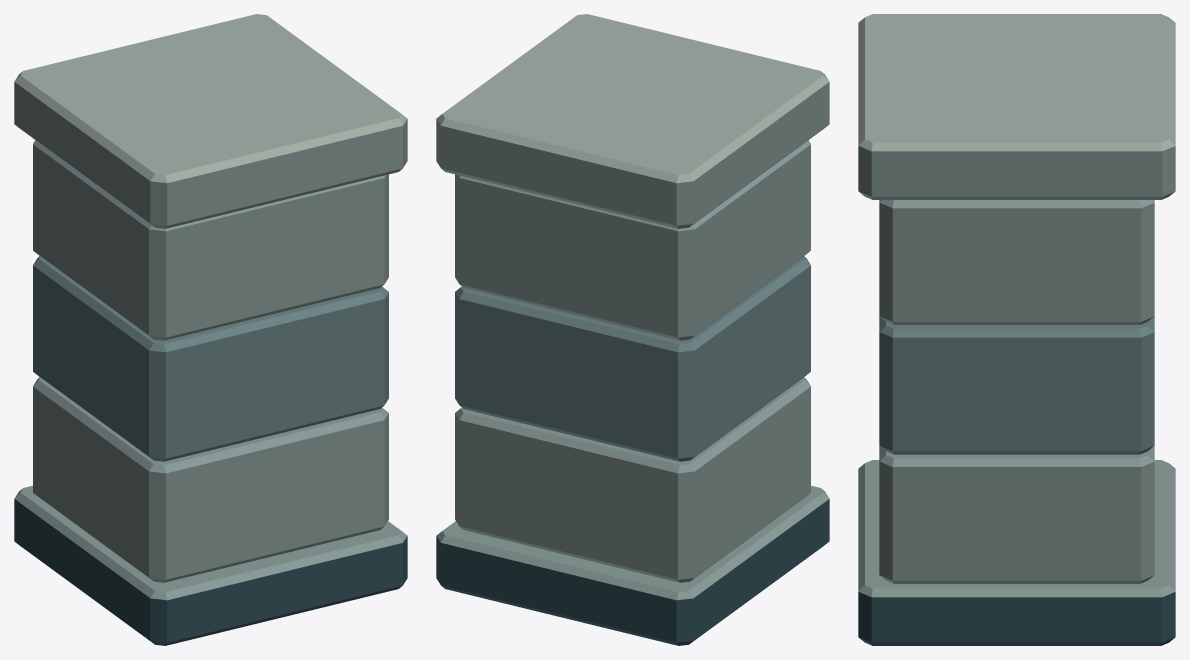
The model's file is wall-end.glb.
3 renders of one model, left to right at view 1: azimuth 30°, elevation 25°; view 2: azimuth 150°, elevation 25°; view 3: azimuth 270°, elevation 25°, orthographic. The views are drawn at different scales.
Visible parts, largest first — view 1: wall-end__body; view 2: wall-end__body; view 3: wall-end__body.
Boxes of the visible parts, x1=… form: wall-end__body: x1=14, y1=14, x2=407, y2=645; wall-end__body: x1=436, y1=14, x2=829, y2=645; wall-end__body: x1=858, y1=14, x2=1175, y2=645.
Bounding box in the file's own units: 0.6 × 1.05 × 0.6.
